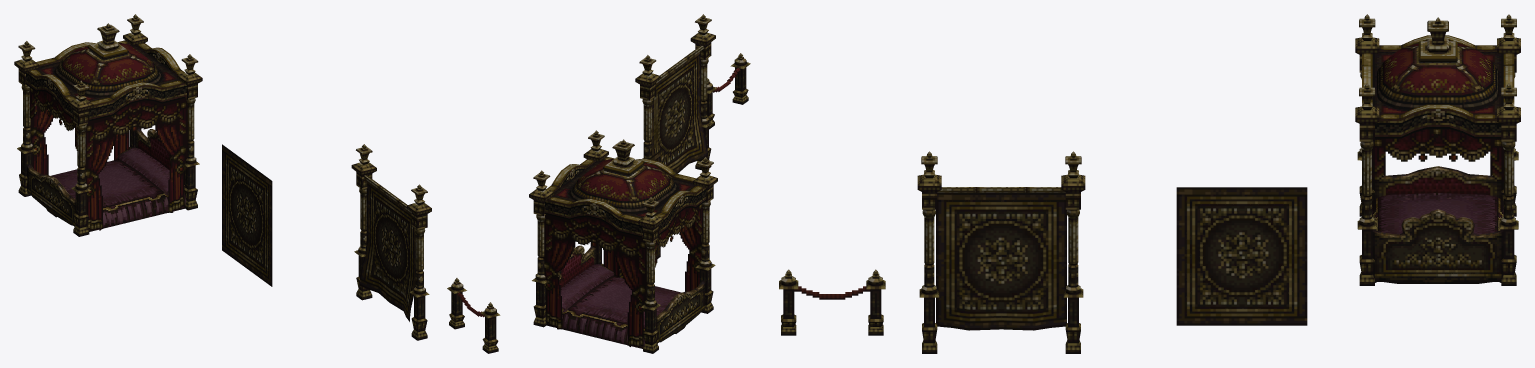
Rendered from EnvObjMD_Bed_Luxury_A_Coloseum.FBX.
The picture shows the model from 3 angles, left to right: view 1: azimuth 30°, elevation 25°; view 2: azimuth 150°, elevation 25°; view 3: azimuth 270°, elevation 25°; orthographic projection. The views are drawn at different scales.
Visible parts, largest first — view 1: EnvObjMD_Bed_Luxury_A_NoCushion, EnvObjMD_Bed_Luxury_A_Coloseum_Cloth, EnvObjMD_Bed_Luxury_A_Coloseum, EnvObjMD_Bed_Luxury_Rope_Loop, EnvObjMD_Bed_Luxury_Rope_Point; view 2: EnvObjMD_Bed_Luxury_A_NoCushion, EnvObjMD_Bed_Luxury_A_Coloseum_Cloth, EnvObjMD_Bed_Luxury_Rope_Loop, EnvObjMD_Bed_Luxury_Rope_Point; view 3: EnvObjMD_Bed_Luxury_A_NoCushion, EnvObjMD_Bed_Luxury_A_Coloseum_Cloth, EnvObjMD_Bed_Luxury_A_Coloseum, EnvObjMD_Bed_Luxury_Rope_Loop, EnvObjMD_Bed_Luxury_Rope_Point.
Part boxes in pixels (x1,y1,x2,y2): EnvObjMD_Bed_Luxury_A_NoCushion: (14, 14, 202, 236); EnvObjMD_Bed_Luxury_A_Coloseum_Cloth: (351, 144, 431, 340); EnvObjMD_Bed_Luxury_A_Coloseum: (222, 144, 272, 286); EnvObjMD_Bed_Luxury_Rope_Loop: (457, 292, 500, 353); EnvObjMD_Bed_Luxury_Rope_Point: (447, 278, 466, 329); EnvObjMD_Bed_Luxury_A_NoCushion: (529, 130, 717, 353); EnvObjMD_Bed_Luxury_A_Coloseum_Cloth: (635, 14, 715, 173); EnvObjMD_Bed_Luxury_Rope_Loop: (713, 53, 750, 104); EnvObjMD_Bed_Luxury_Rope_Point: (706, 78, 716, 129); EnvObjMD_Bed_Luxury_A_NoCushion: (1355, 14, 1520, 285); EnvObjMD_Bed_Luxury_A_Coloseum_Cloth: (917, 151, 1085, 353); EnvObjMD_Bed_Luxury_A_Coloseum: (1176, 187, 1307, 325); EnvObjMD_Bed_Luxury_Rope_Loop: (779, 269, 870, 335); EnvObjMD_Bed_Luxury_Rope_Point: (866, 269, 885, 335).
Size of the model in its own units: 695 by 679 by 1702.
Materials: 1 (1 with a texture image).
